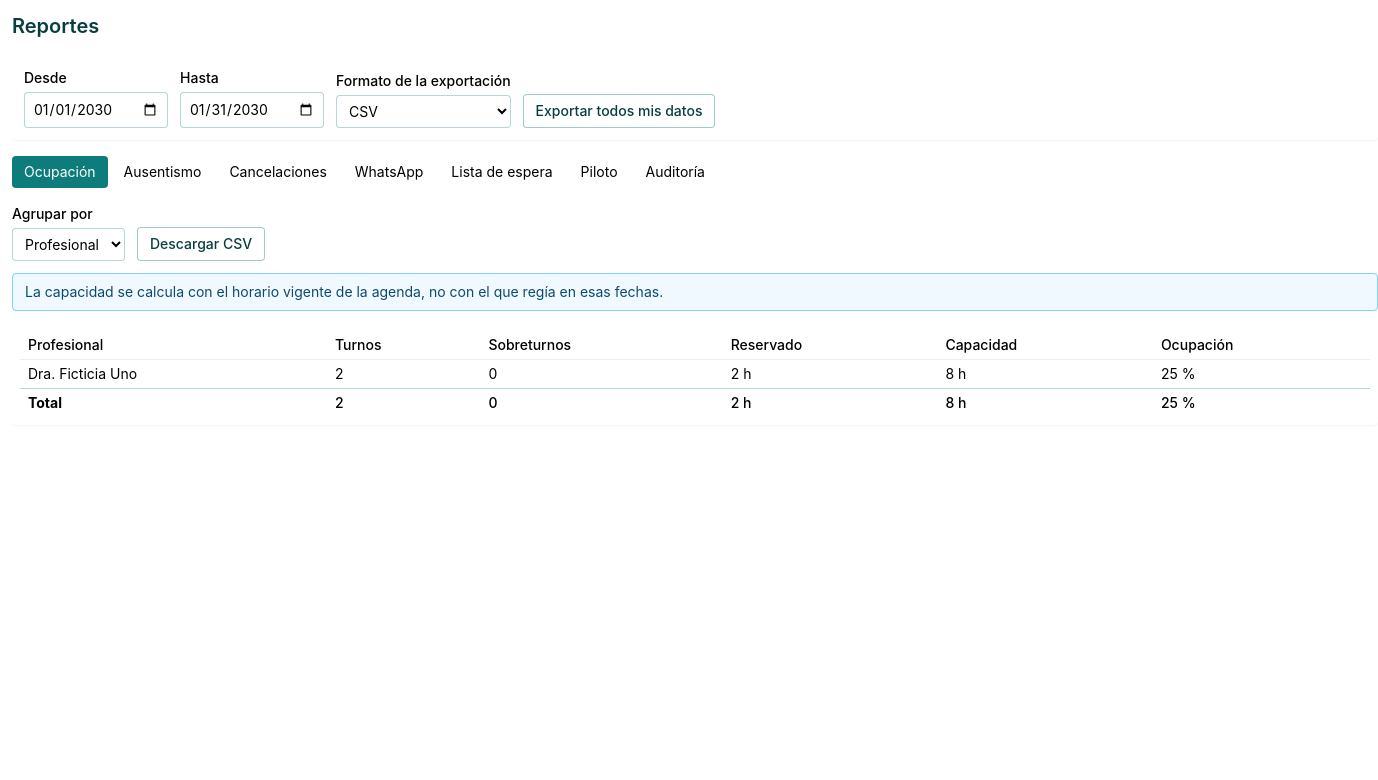
Test: ReportsPage › WhatsApp: filas por paso con etiquetas legibles, costo y total
Click the tab "WhatsApp". click: click(389, 172)
box: [343,156,435,188]
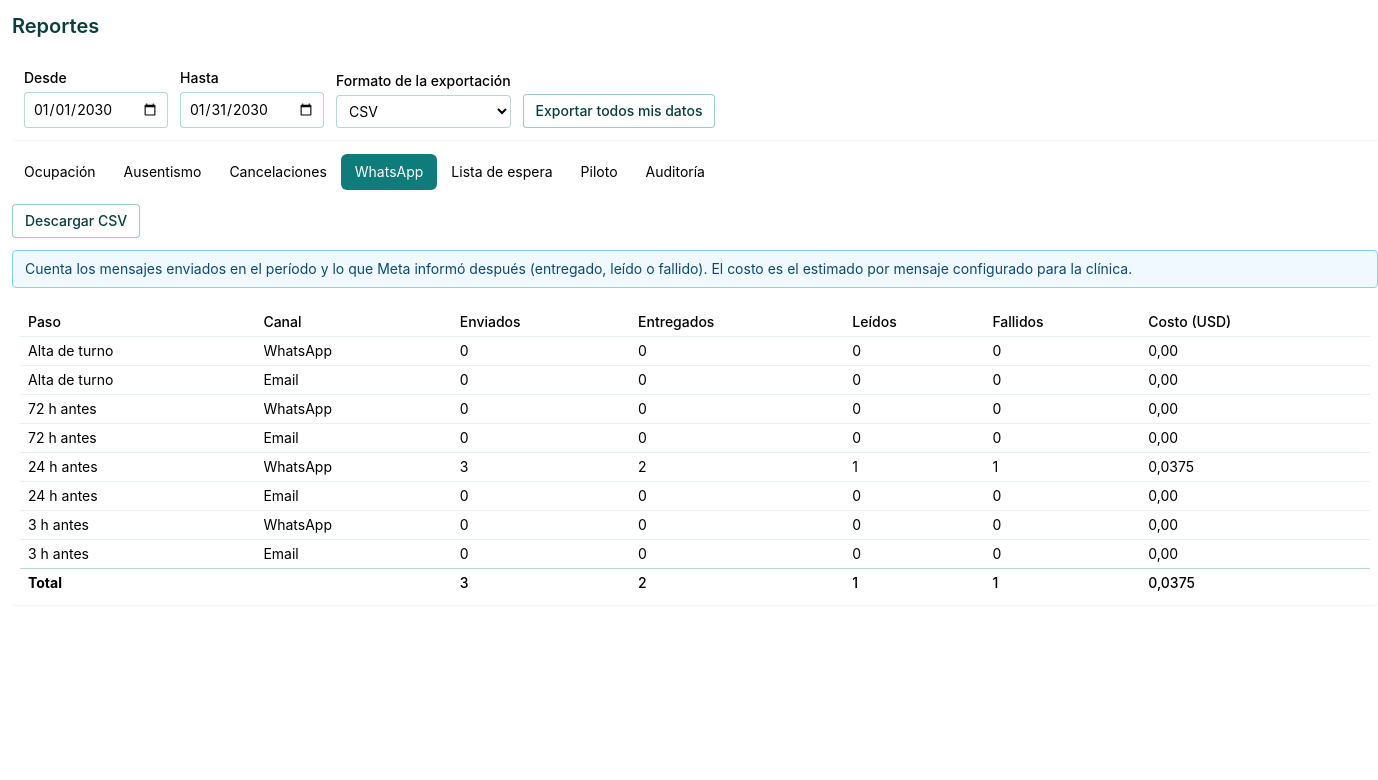
expect the row "24 h antes WhatsApp 3 2 1 1 0,0375" is shown: met, box [20,452,1370,482]
expect the number of column headings "Alta de turno" is 2: met, box [20,336,255,366]; [20,366,255,394]
expect the row "Total 3 2 1 1 0,0375" is shown: met, box [20,568,1370,597]
